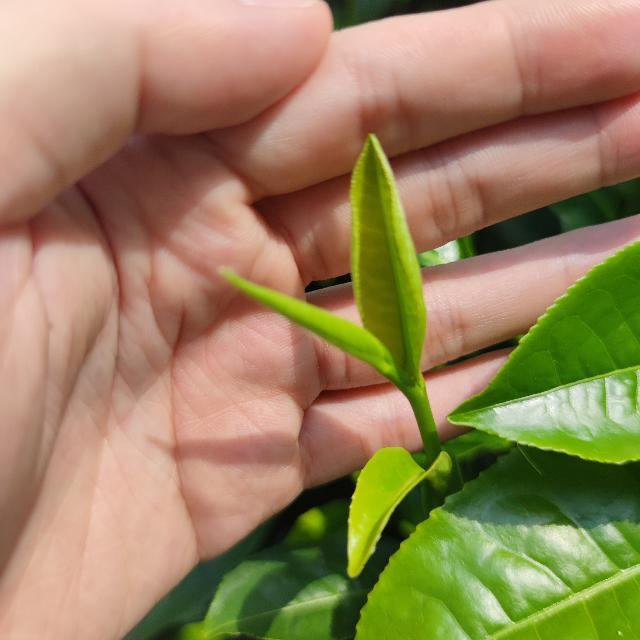Stem: (415, 390, 429, 414)
